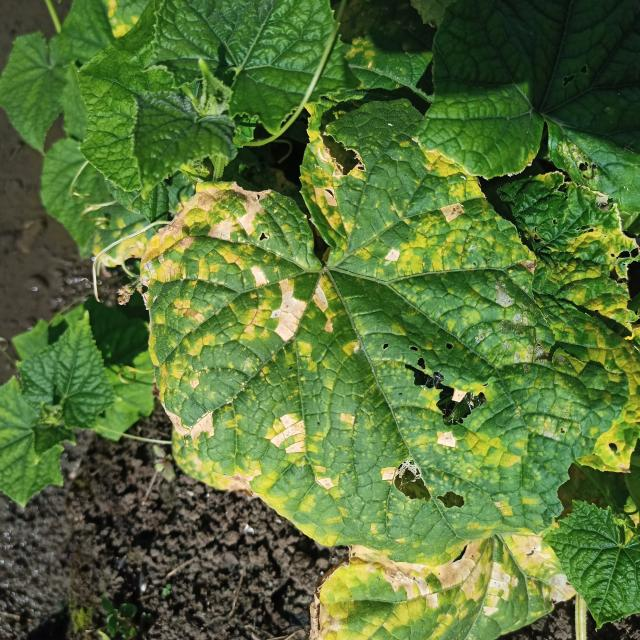disease_cucumber: (145, 130, 640, 536), (311, 524, 560, 640)
